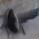cockroach: (6, 6, 20, 34)
